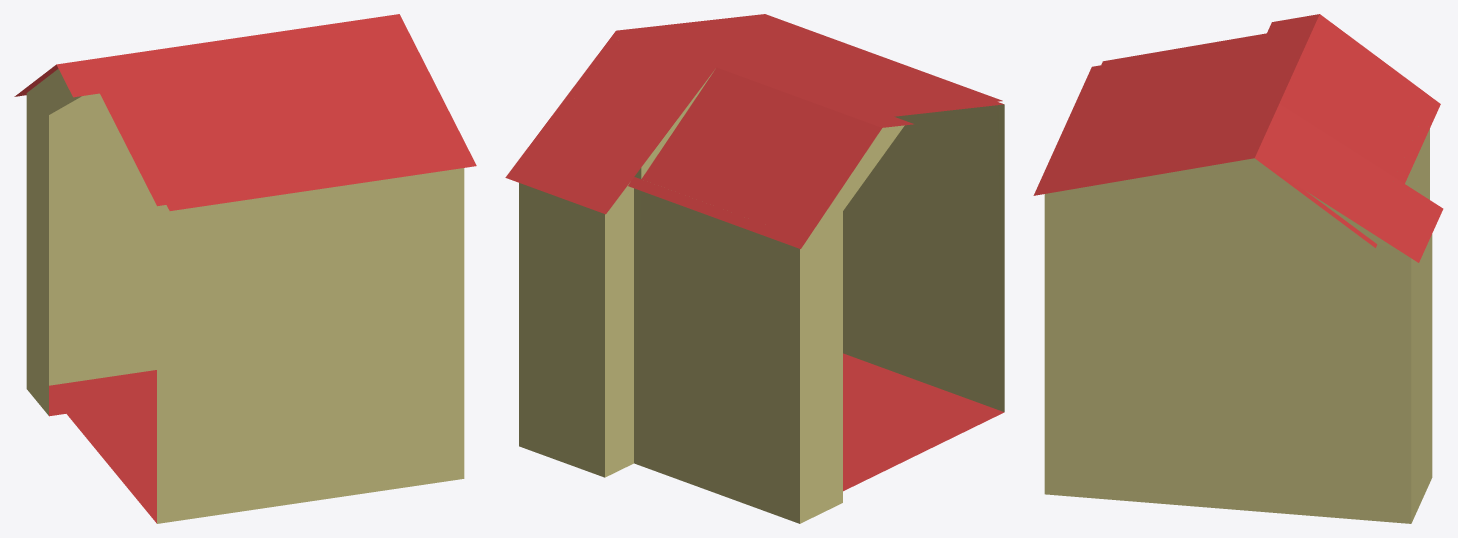
The picture shows the model from 3 angles, left to right: view 1: azimuth 30°, elevation 25°; view 2: azimuth 150°, elevation 25°; view 3: azimuth 270°, elevation 25°; orthographic projection. The views are drawn at different scales.
Size of the model in its own units: 10.22 by 10.83 by 10.41.
